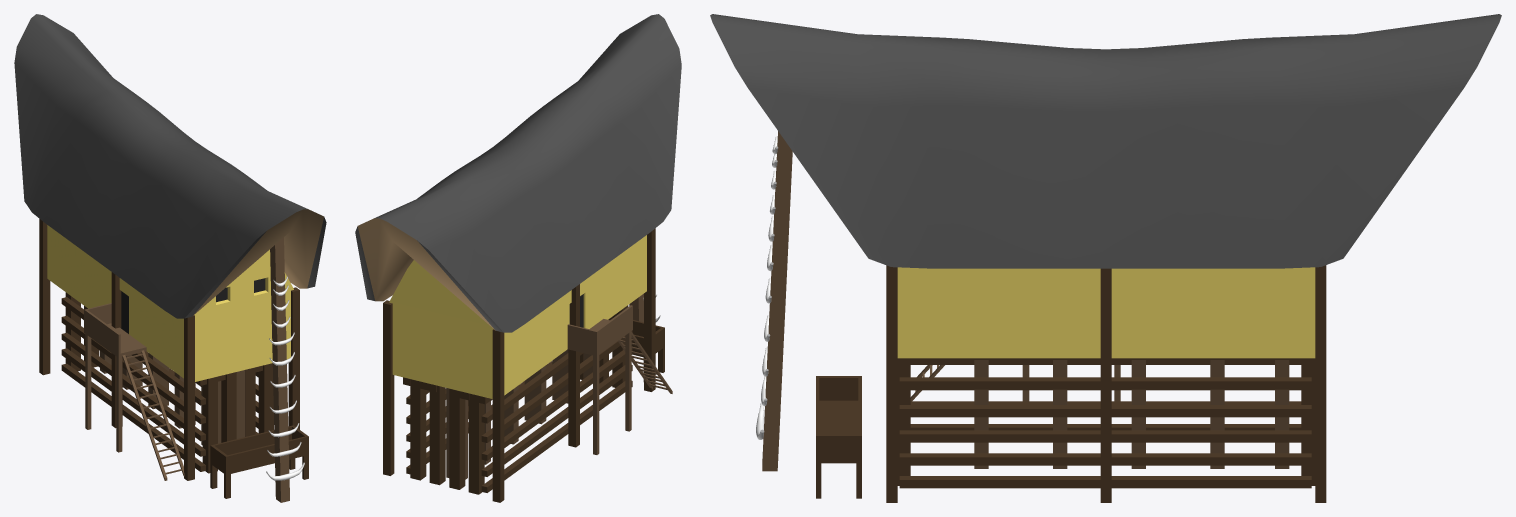
The model's file is TANA TORAJA.fbx.
3 renders of one model, left to right at view 1: azimuth 30°, elevation 25°; view 2: azimuth 150°, elevation 25°; view 3: azimuth 270°, elevation 25°, orthographic. The views are drawn at different scales.
Visible parts, largest first — view 1: Cube, Cube.003, Cube.001, Cube.002, Cube.006, Cube.005, Cube.004, Cylinder; view 2: Cube, Cube.003, Cube.001, Cube.002, Cube.004, Cube.005; view 3: Cube, Cube.003, Cube.001, Cube.006, Cube.004, Cube.005, Cylinder.
Boxes of the visible parts, x1,y1,x2,y2 form: Cube: (14,14,326,318); Cube.003: (39,219,299,480); Cube.001: (47,225,293,381); Cube.002: (84,303,184,480); Cube.006: (270,237,289,502); Cube.005: (210,425,308,498); Cube.004: (100,351,245,445); Cylinder: (266,276,304,480); Cube: (355,14,681,332); Cube.003: (383,228,655,502); Cube.001: (389,235,646,398); Cube.002: (567,305,672,454); Cube.004: (446,349,592,479); Cube.005: (609,317,664,381); Cube: (710,14,1501,268); Cube.003: (886,265,1326,502); Cube.001: (897,267,1315,358); Cube.006: (762,131,792,471); Cube.004: (974,360,1289,468); Cube.005: (816,376,861,498); Cylinder: (756,136,778,439).
Bounding box in the file's own units: 284 × 572 × 906.
